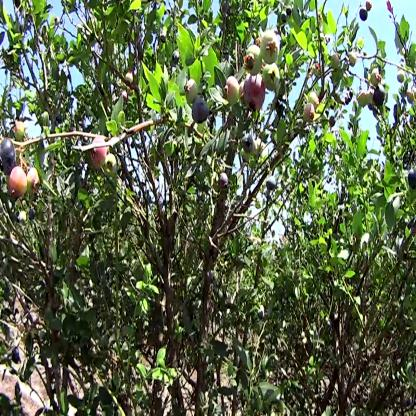intermediate: (8, 167, 28, 201), (226, 73, 242, 109), (91, 138, 108, 169), (304, 101, 316, 124), (126, 70, 134, 84)
mature: (244, 73, 267, 111), (1, 139, 17, 176), (193, 97, 211, 125), (374, 83, 388, 106), (14, 118, 25, 141), (245, 135, 255, 153), (219, 173, 229, 191), (266, 176, 278, 191), (173, 50, 181, 65), (360, 8, 369, 21), (365, 1, 373, 12)
young: (260, 31, 280, 66), (264, 62, 281, 92), (246, 45, 263, 74), (105, 154, 119, 180), (185, 78, 198, 105), (27, 167, 39, 194), (359, 91, 375, 106), (310, 91, 320, 110), (397, 69, 406, 84), (349, 53, 358, 67)
